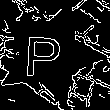P_N: (30, 28, 71, 80)
